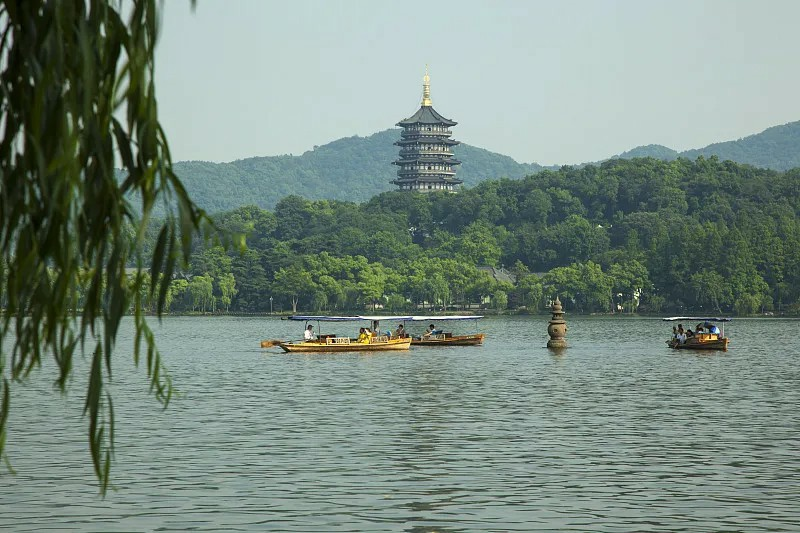Leifeng: (390, 63, 465, 197)
